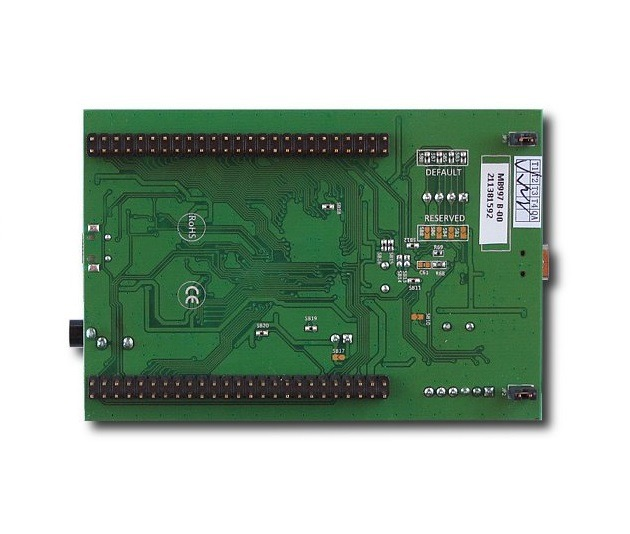STM32F4-DISC: (50, 98, 576, 447)
